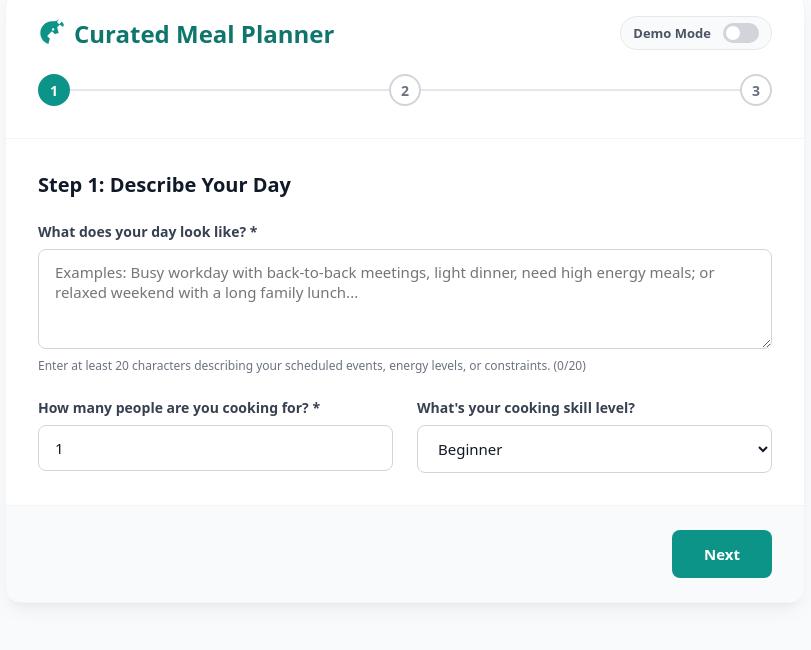
Test case: React UI - Wizard Navigation & Validation › shows validation errors when fields are empty and Next is clicked
Click the button with aria-label "Proceed to step 2" at point(722, 554), box x1=672 y1=530 x2=772 y2=578
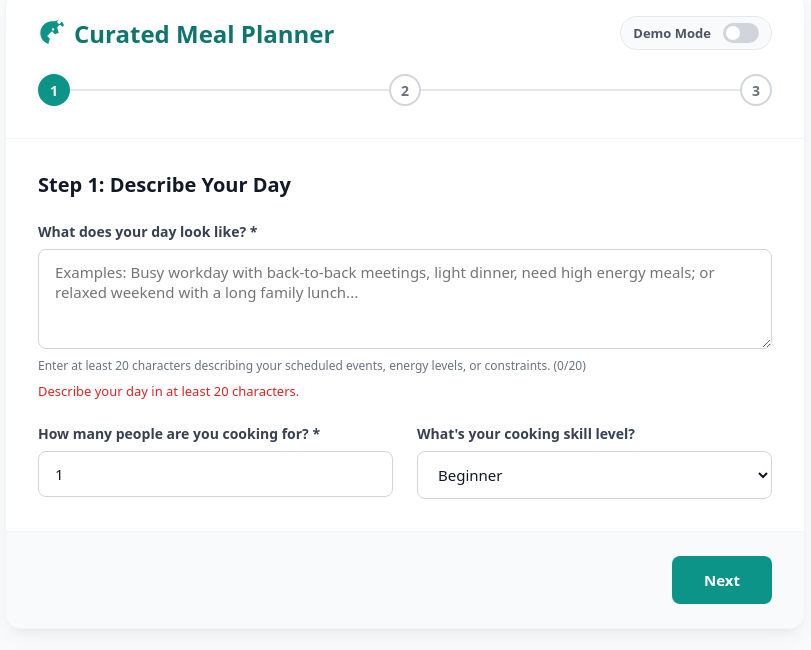
Now the text "Describe your day in at least 20 characters." is shown, box x1=38 y1=382 x2=299 y2=400
